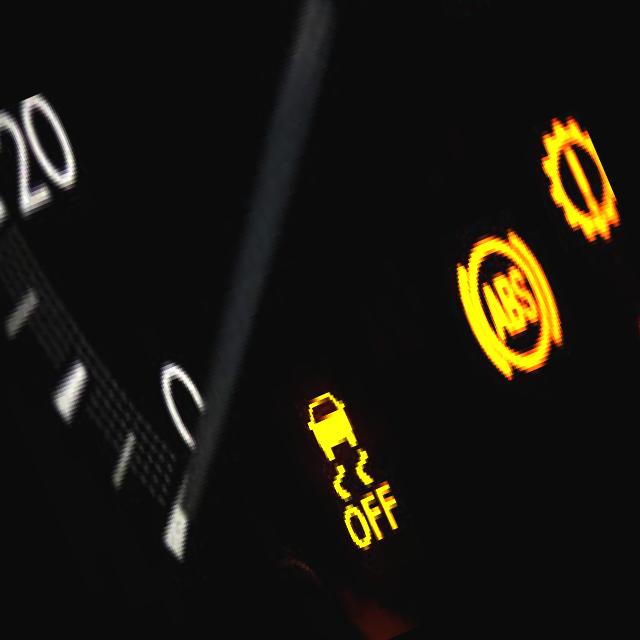kontrolka: (418, 196, 592, 406), (270, 361, 422, 568), (511, 96, 630, 266)
